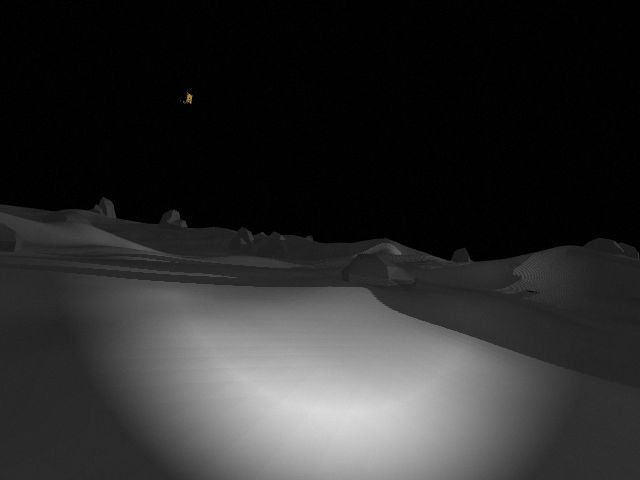cubesat: (175, 88, 194, 108)
